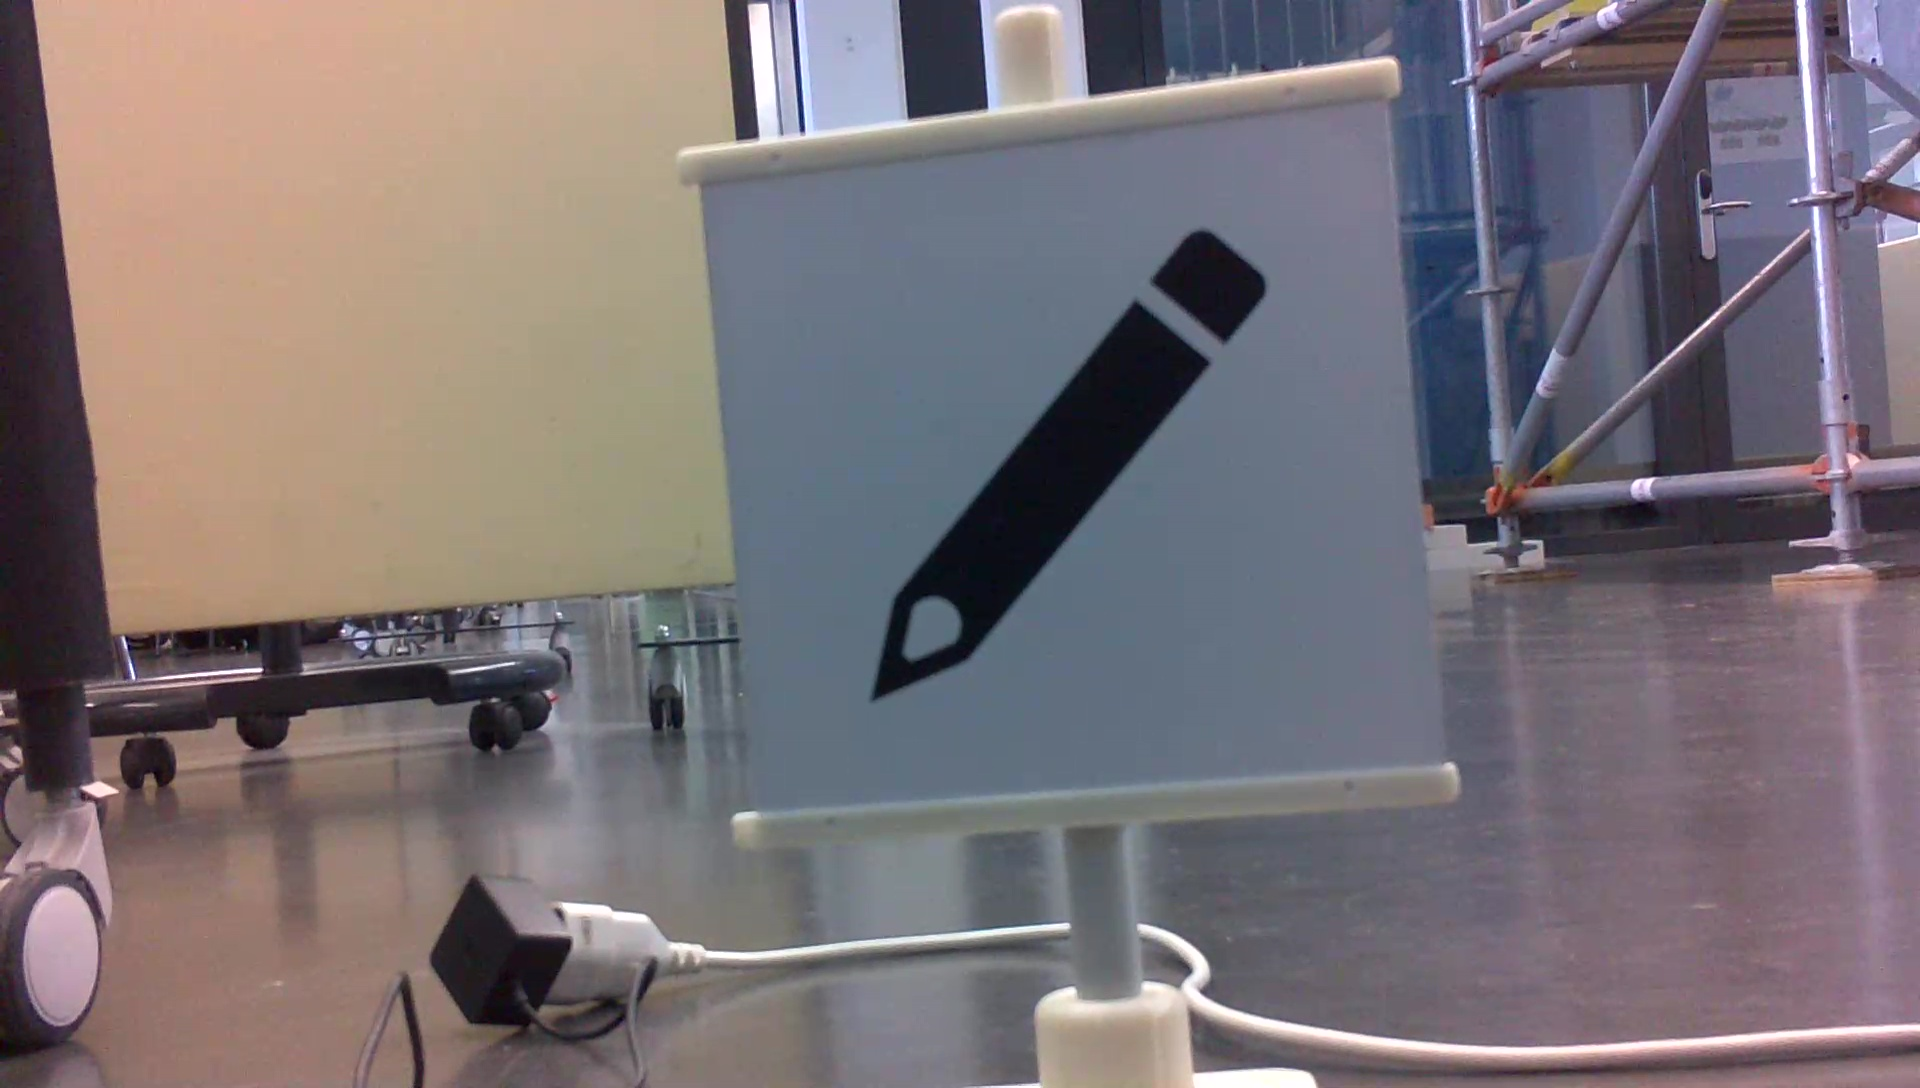pencil: (851, 210, 1284, 732)
